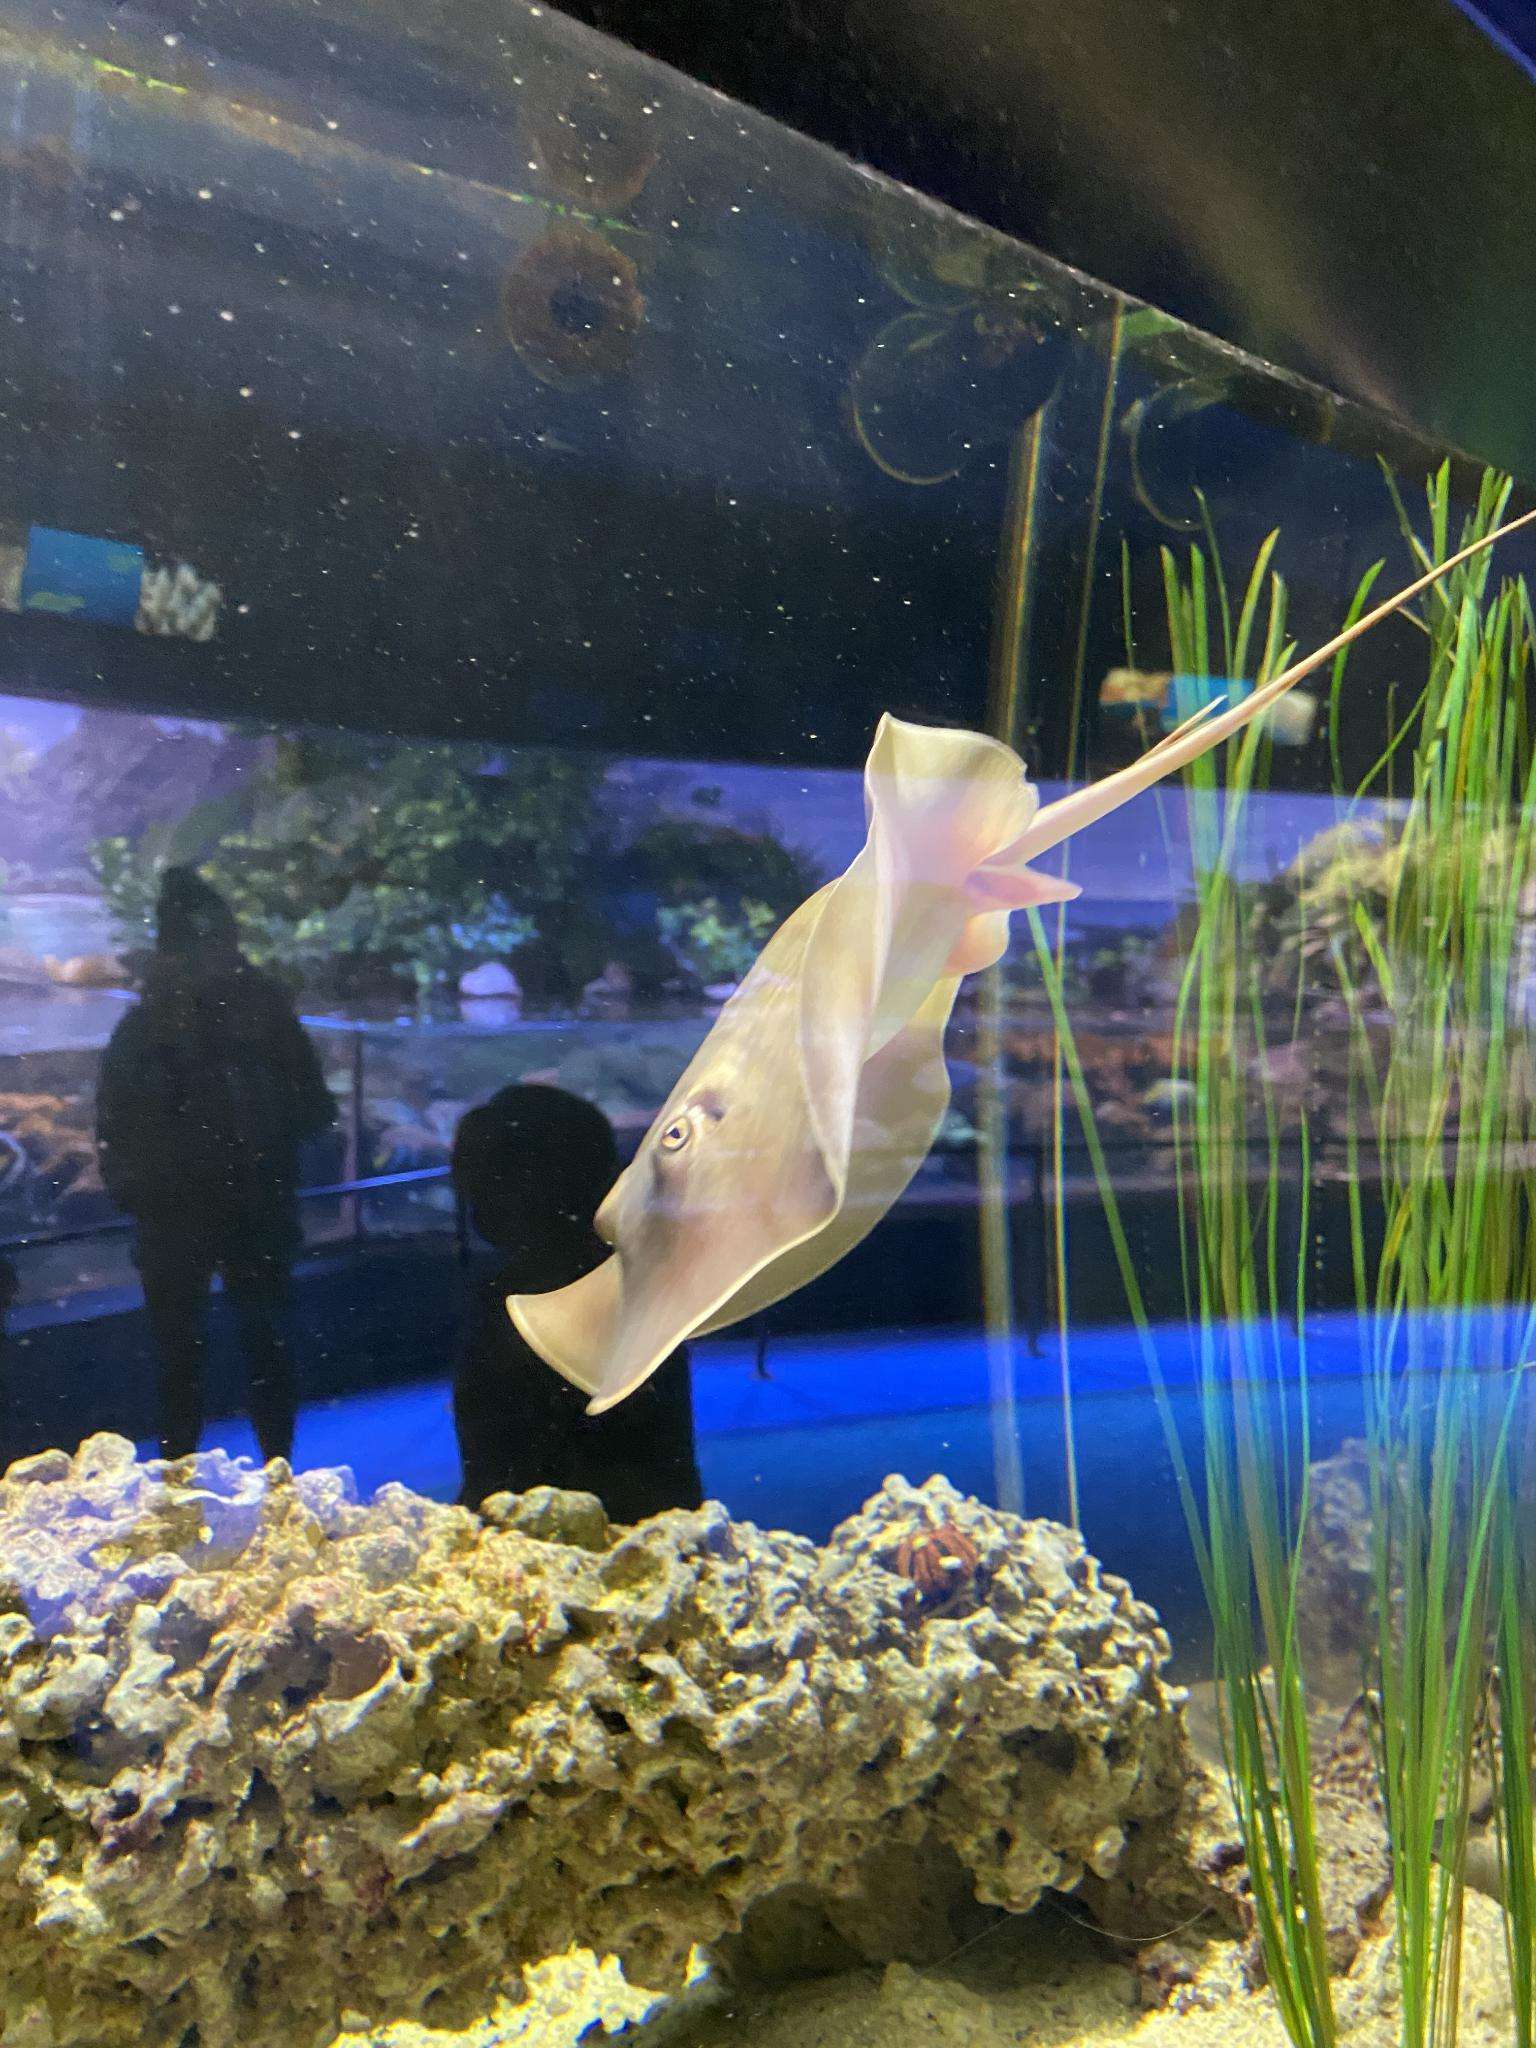stingray: (503, 681, 1079, 1417)
